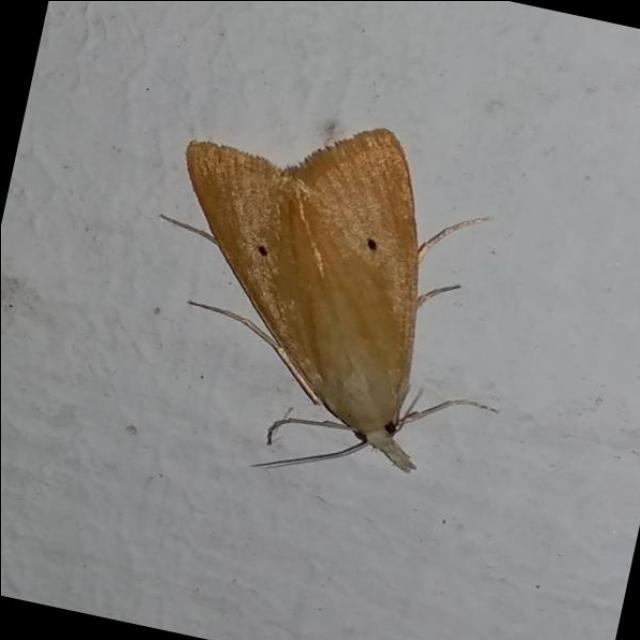stem borer: (161, 130, 477, 473)
